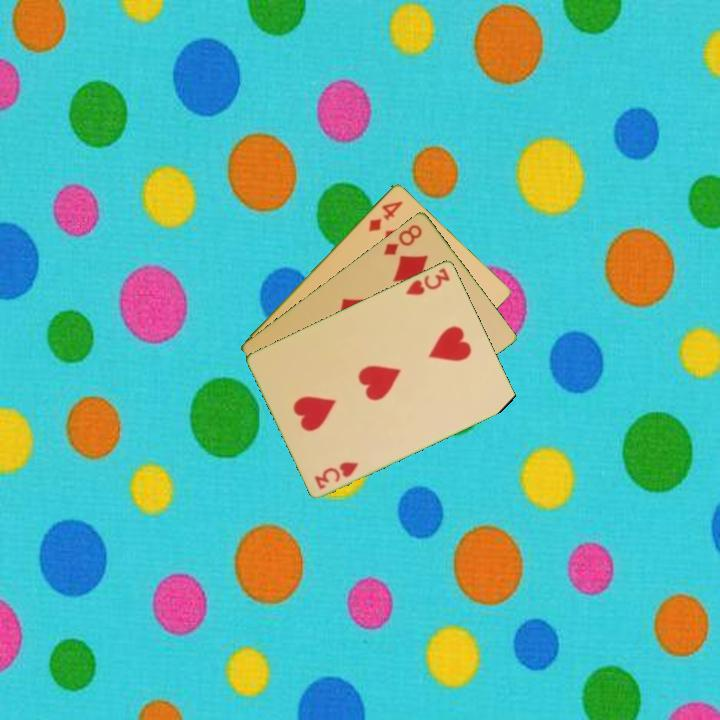3h: (402, 264, 453, 298), (311, 458, 362, 492)
4d: (365, 197, 406, 234)
8d: (380, 220, 425, 258)
